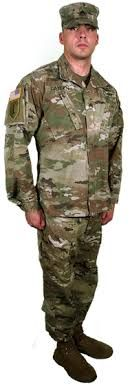uniform: (9, 56, 119, 339)
